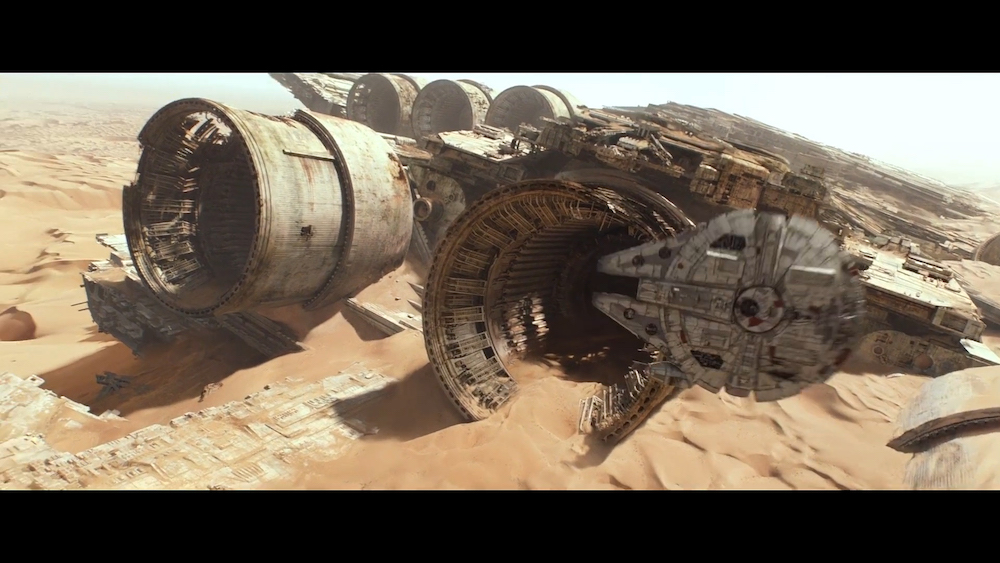Millennium Falcon: (591, 207, 870, 407)
